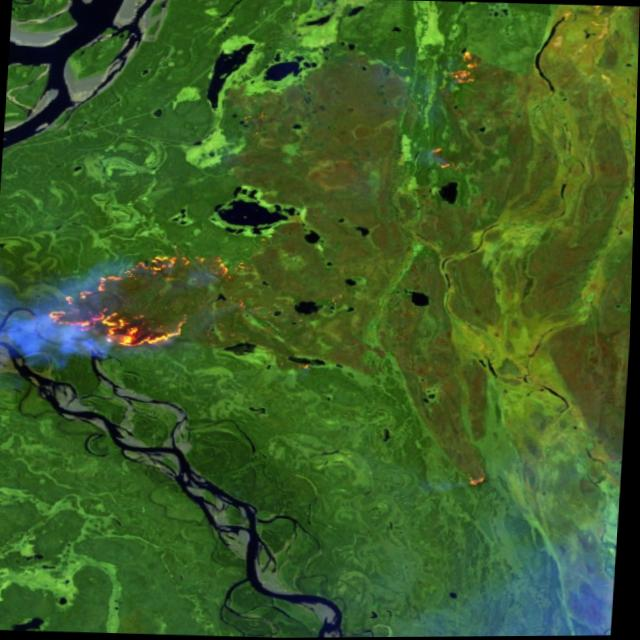fire: (33, 244, 247, 362), (437, 43, 492, 94), (422, 141, 470, 181), (458, 467, 495, 496)
